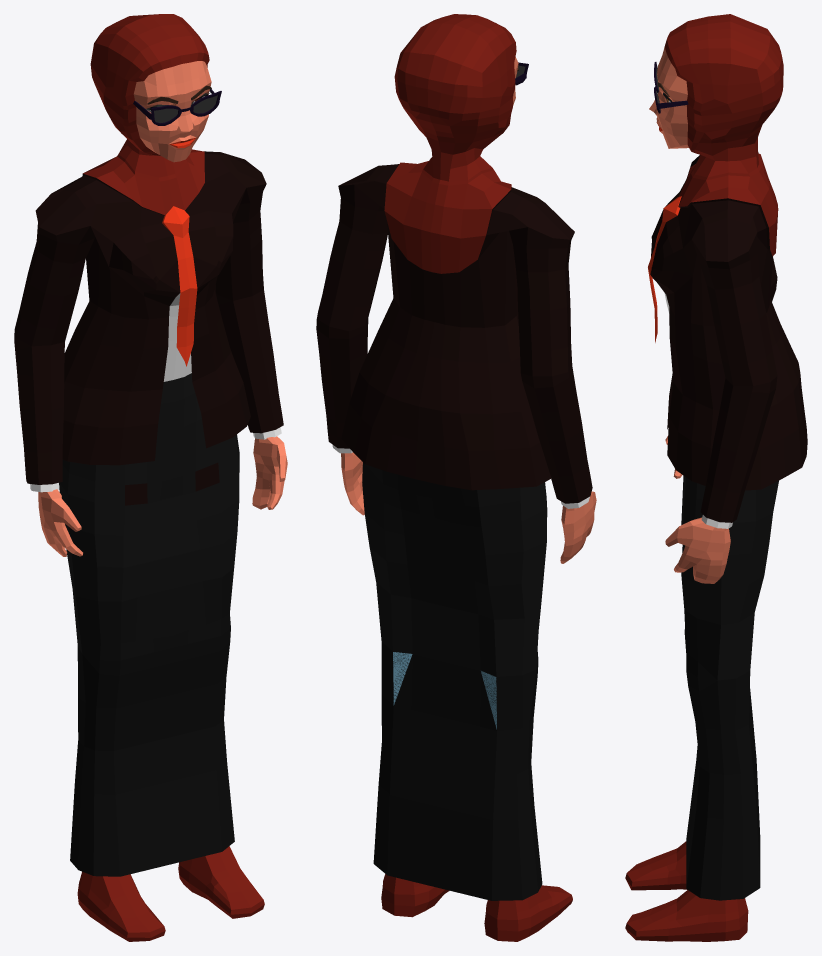
The model's file is ScientistFemale_A_Stand.fbx.
The picture shows the model from 3 angles, left to right: view 1: azimuth 30°, elevation 25°; view 2: azimuth 150°, elevation 25°; view 3: azimuth 270°, elevation 25°; orthographic projection. The views are drawn at different scales.
Visible parts, largest first — view 1: ScientistFemale_A_Stand; view 2: ScientistFemale_A_Stand; view 3: ScientistFemale_A_Stand.
Part boxes in pixels (box(x1,y1,x2,y2)): ScientistFemale_A_Stand: box(14, 14, 287, 941); ScientistFemale_A_Stand: box(316, 14, 596, 941); ScientistFemale_A_Stand: box(625, 14, 807, 941).
Size of the model in its own units: 0.281 by 0.9253 by 0.1728.
